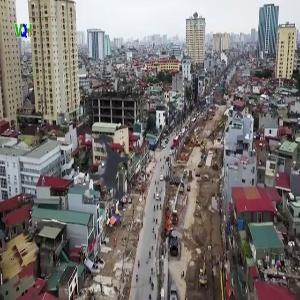drone: (50, 112, 171, 233)
